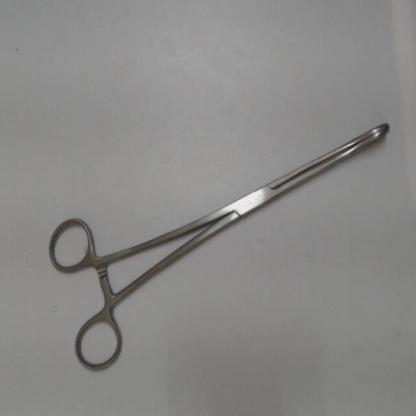Sponge Forceps: (39, 116, 398, 382)
